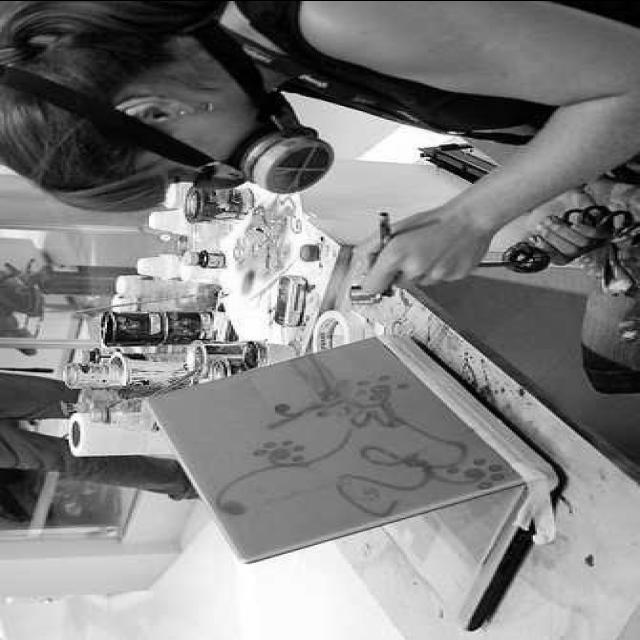laptop: (162, 374, 522, 620)
